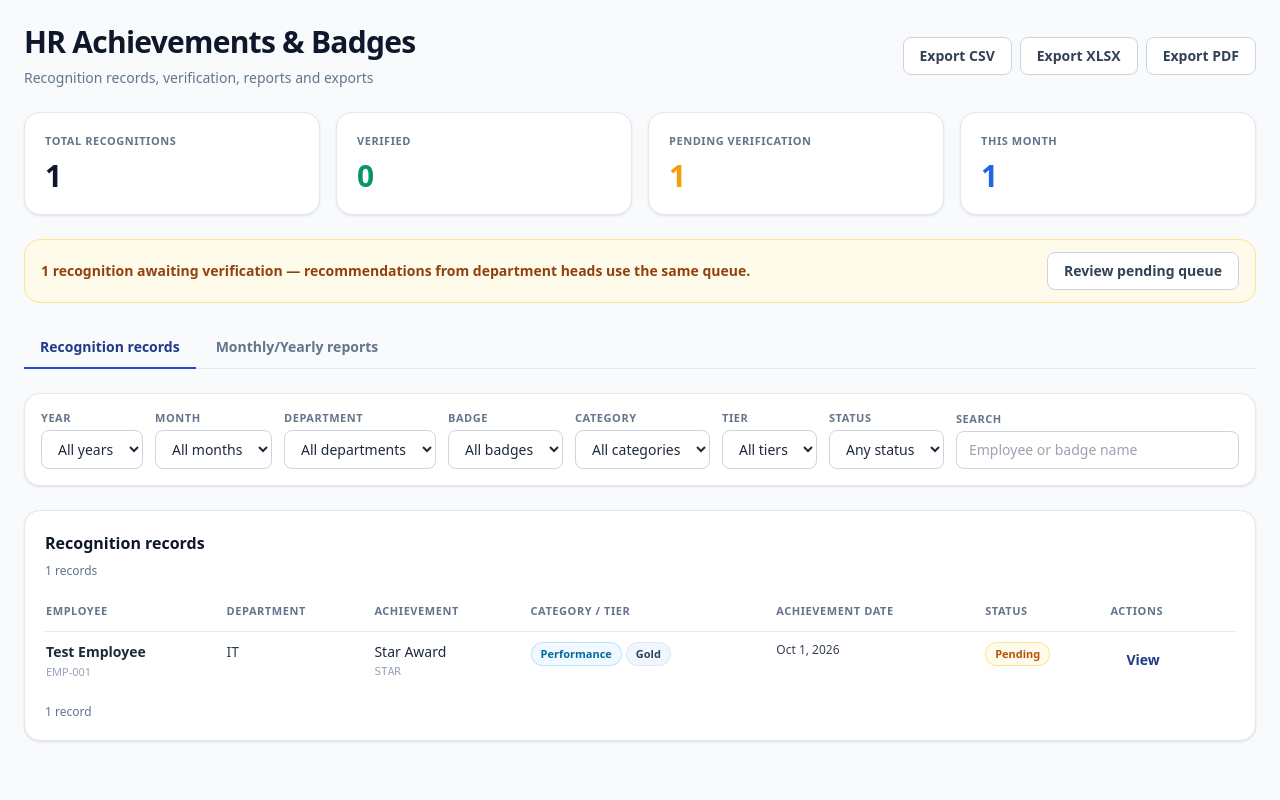
Test: recognition detail modal — evidence rendering › renders meaningful evidence with readable labels and no raw JSON
The image size is (1280, 800).
Expected: the text "Test Employee" is shown, [46, 642, 146, 661]
Click the button "View". click: (1143, 660)
box: [1110, 642, 1176, 678]
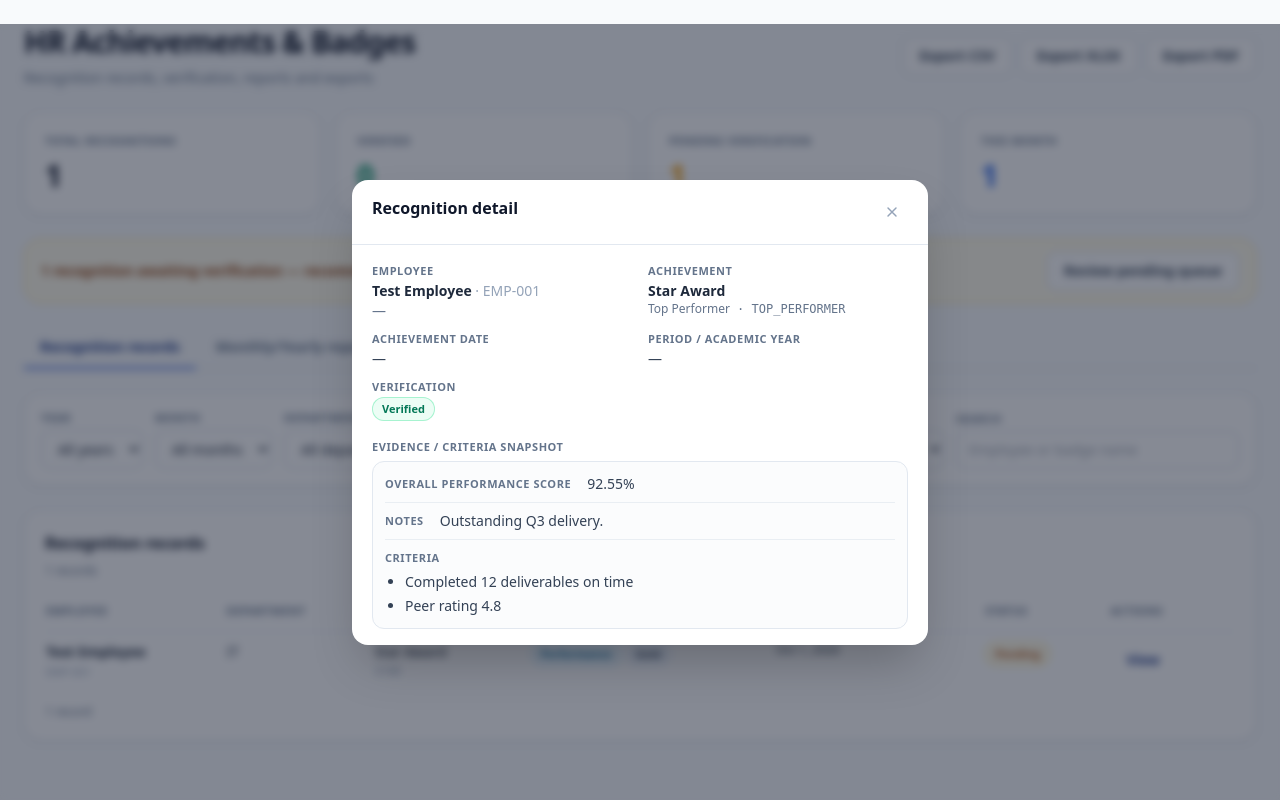
Result: the text "Overall performance score" is shown at [385, 474, 571, 494]
Result: the text "92.55%" is shown at [587, 474, 635, 492]
Result: the text "Outstanding Q3 delivery." is shown at [440, 510, 603, 530]
